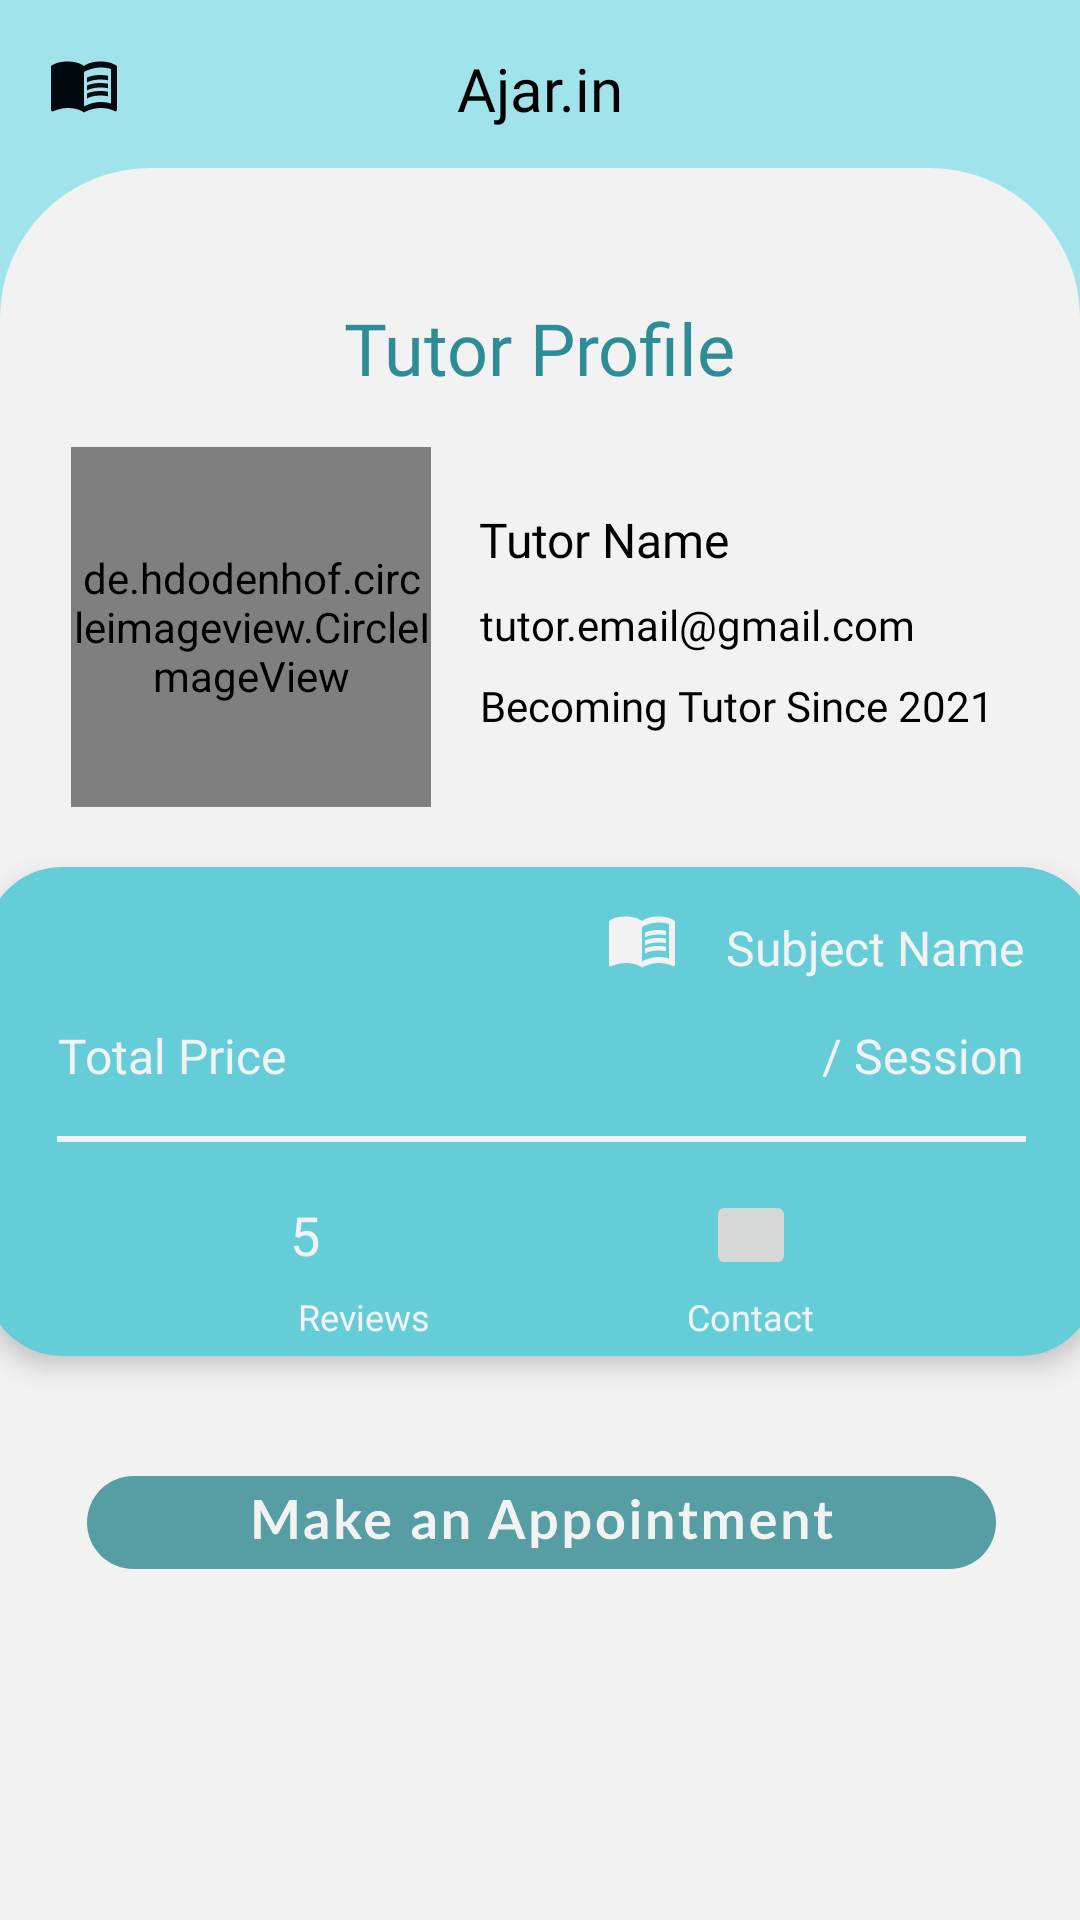

Where to tap for icons on this 1080px x 1920px app screen, as point (x, y):
book: point (84, 87), point (642, 942)
